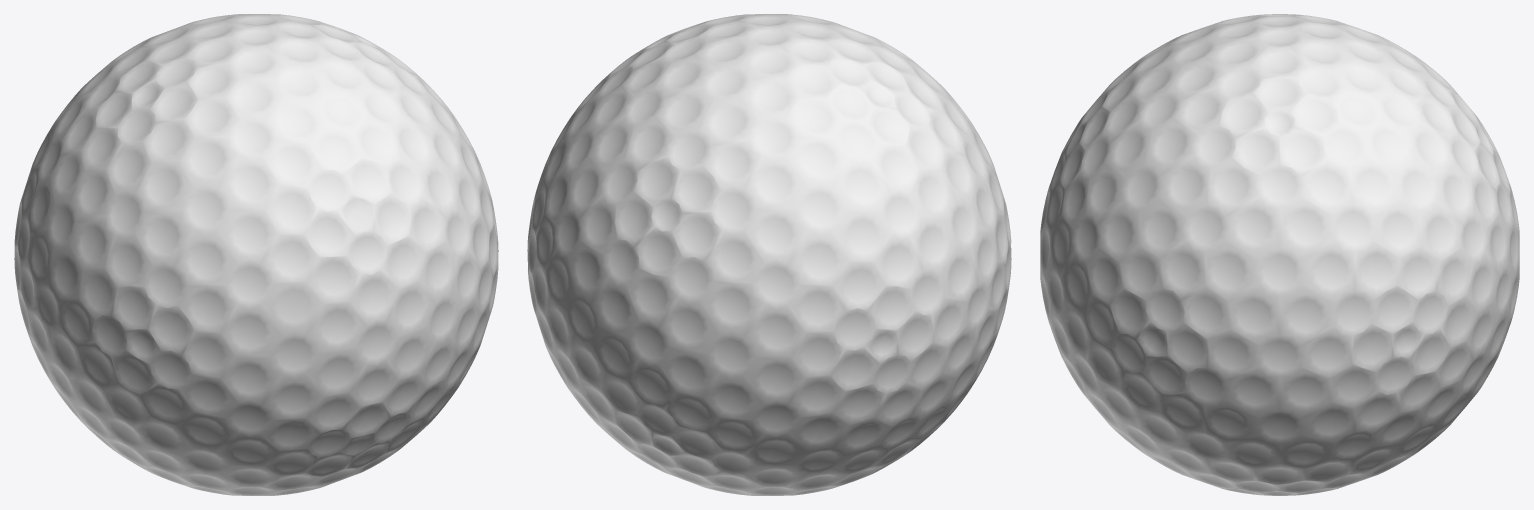
File: Golf Ball.fbx
3 renders of one model, left to right at view 1: azimuth 30°, elevation 25°; view 2: azimuth 150°, elevation 25°; view 3: azimuth 270°, elevation 25°, orthographic.
Visible parts, largest first — view 1: node_id44; view 2: node_id44; view 3: node_id44.
Part boxes in pixels (x1,y1,x2,y2): node_id44: (14, 14, 498, 495); node_id44: (527, 14, 1011, 495); node_id44: (1040, 14, 1519, 495).
Size of the model in its own units: 0.512 by 0.512 by 0.512.
Materials: 1 (1 with a texture image).
